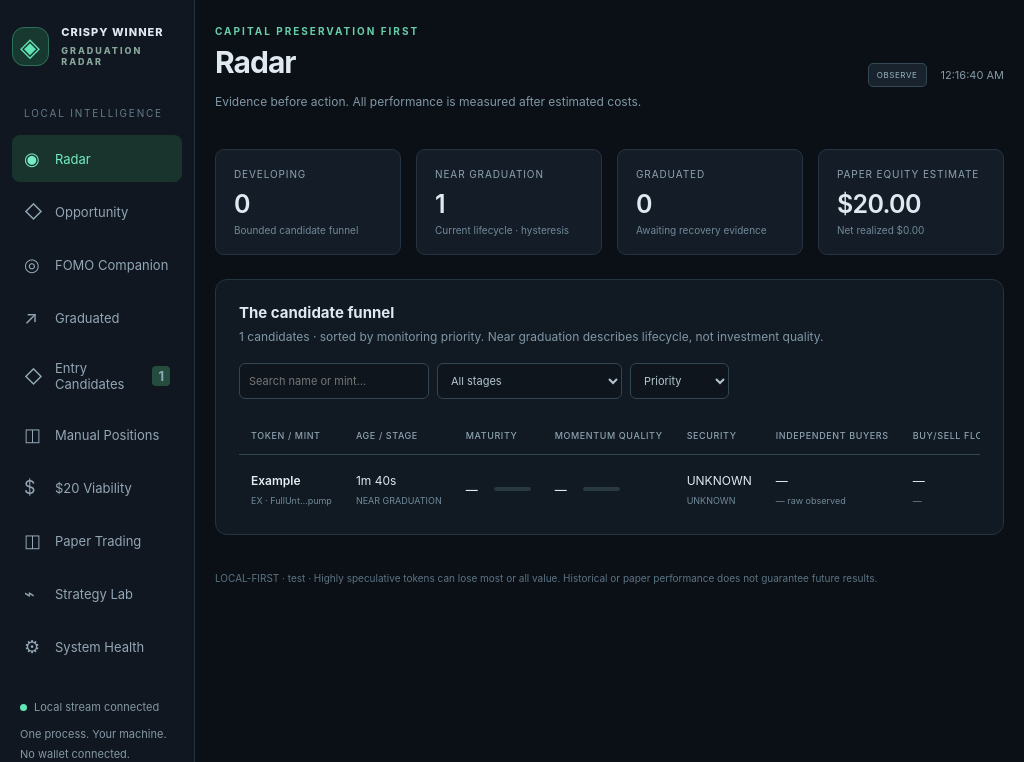
Scenario: navigation, intelligence and SSE invalidate entry to REJECT without companion fetching
The image size is (1024, 762).
Click the button "◎ FOMO Companion" at (97,264), box [12,241,182,288]
(page scrolled)
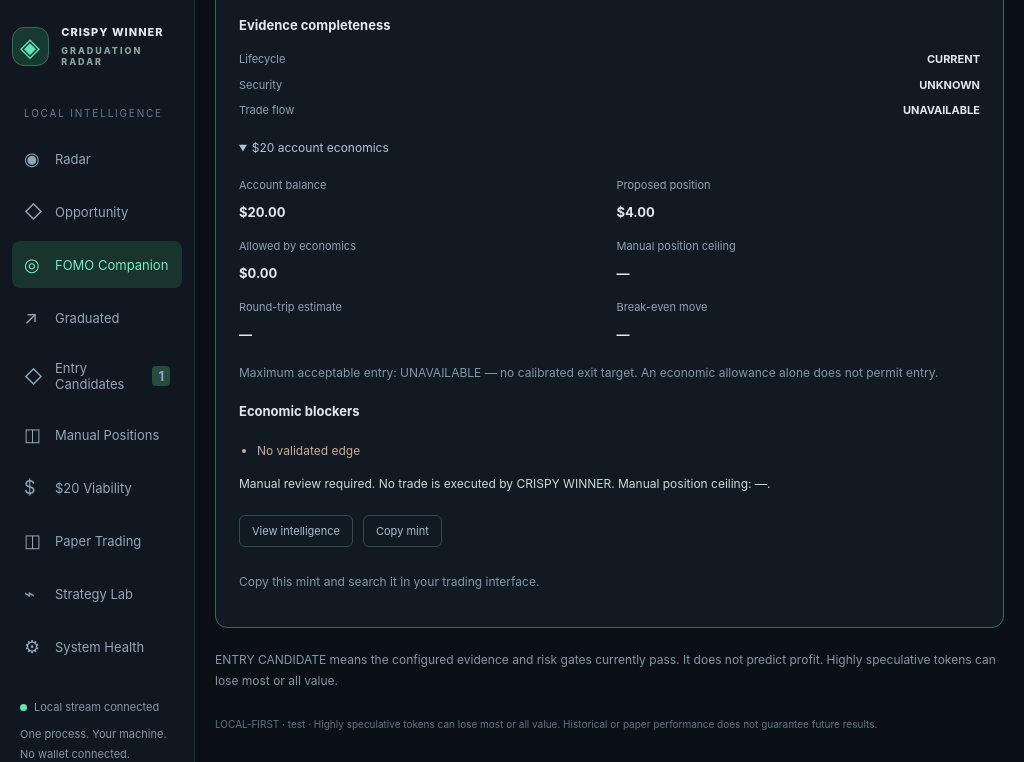
Click the button "View intelligence" at (296,531), box [239,515,353,547]
(page scrolled)
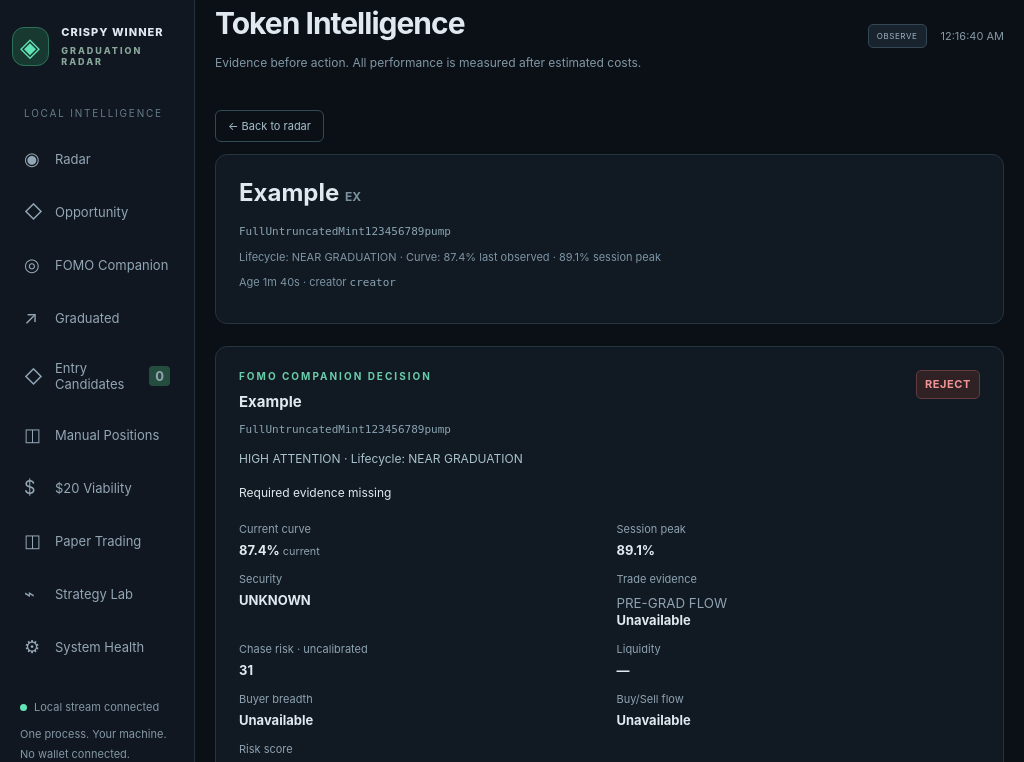
Expected: the text "REJECT" is shown, [916,370,980,399]
Expected: the text "FOMO COMPANION DECISION" is shown, [239,370,451,382]
